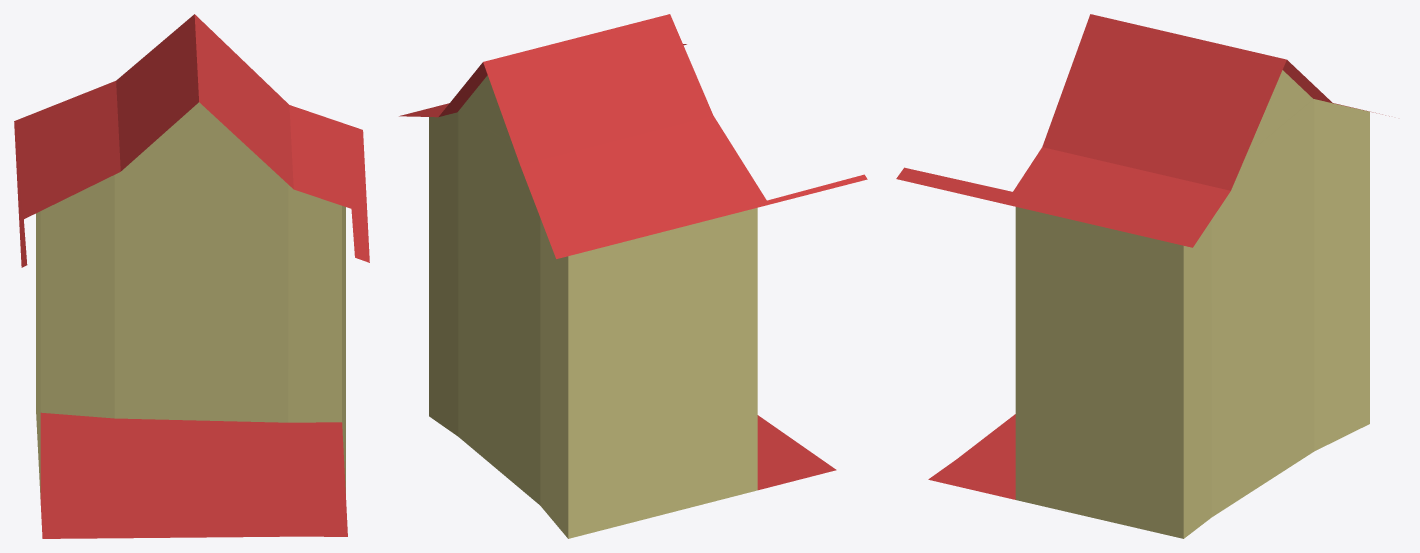
3 views of the same model, side by side, from view 1: azimuth 30°, elevation 25°; view 2: azimuth 150°, elevation 25°; view 3: azimuth 270°, elevation 25° (orthographic). The views are drawn at different scales.
Bounding box in the file's own units: 15.98 × 16.64 × 15.38.
